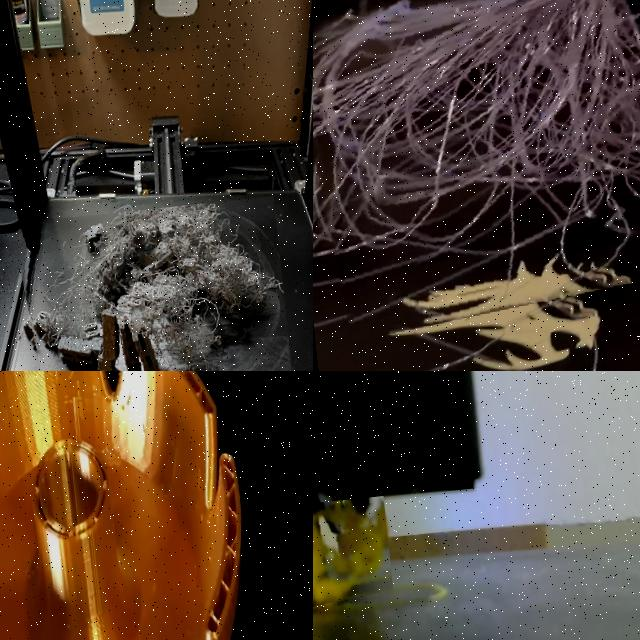spaghetti: (313, 0, 640, 345), (11, 195, 295, 371), (313, 499, 387, 604)
